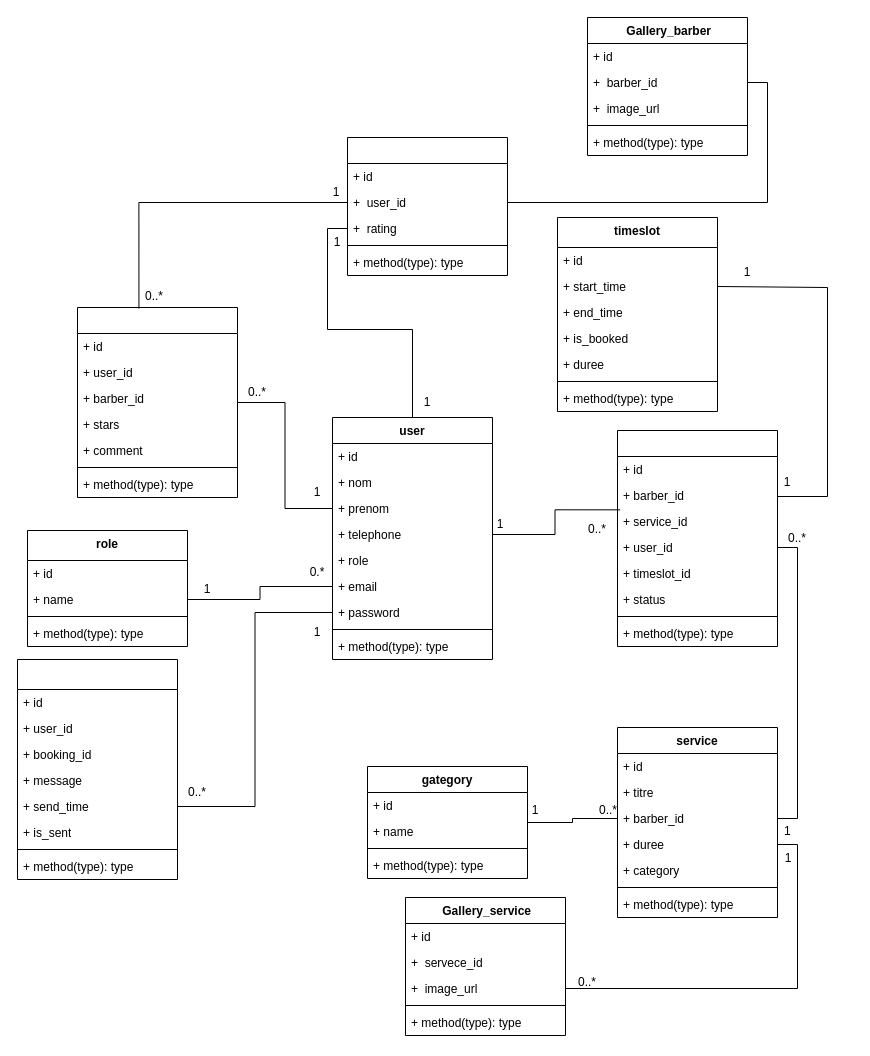
Some shapes in this 870 by 1056 pixel diagram are drawn without their labels. The shapes that lost their labels are listed below. From the top down, each one's box as (x1, y1, x2, y2) in pixels, then its label:
(346, 136, 508, 276): barber
(76, 306, 238, 498): Rating
(616, 430, 778, 646): booking
(16, 658, 178, 880): Notification
